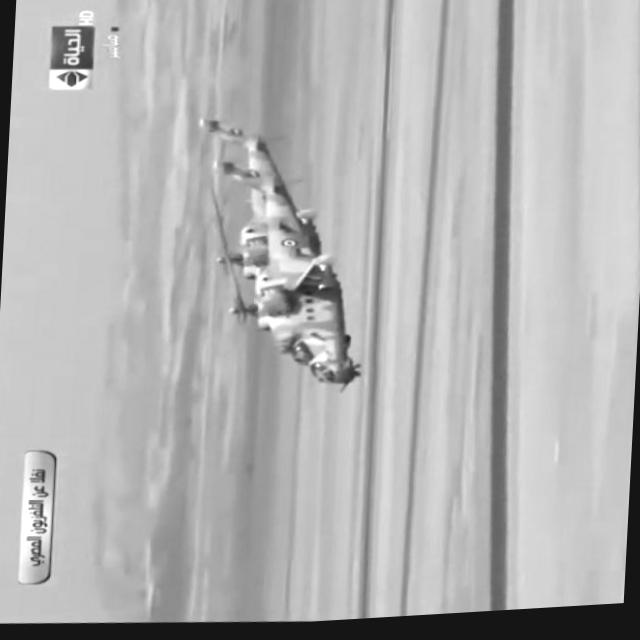helikopter: (176, 137, 372, 403)
